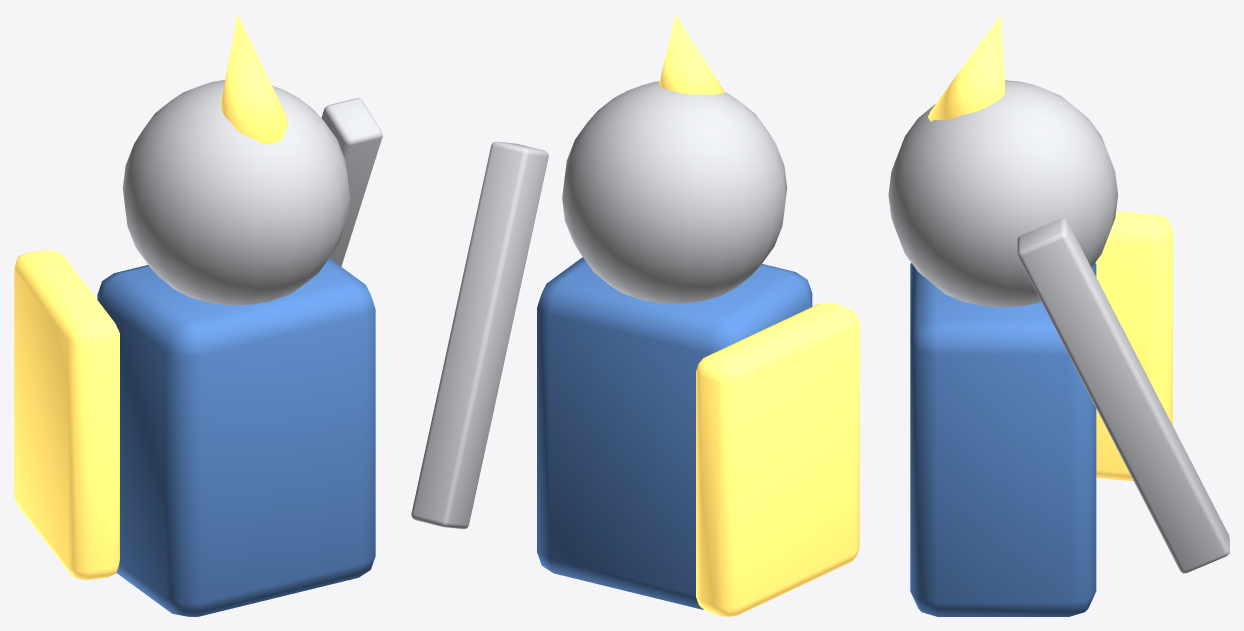
The model's file is troop_swordsman.glb.
3 views of the same model, side by side, from view 1: azimuth 30°, elevation 25°; view 2: azimuth 150°, elevation 25°; view 3: azimuth 270°, elevation 25° (orthographic).
Visible parts, largest first — view 1: StaticBody, Anim_Weapon; view 2: StaticBody, Anim_Weapon; view 3: StaticBody, Anim_Weapon.
Part boxes in pixels (x1,y1,x2,y2): StaticBody: [14, 14, 375, 616]; Anim_Weapon: [321, 98, 382, 266]; StaticBody: [537, 14, 859, 616]; Anim_Weapon: [411, 141, 548, 529]; StaticBody: [888, 14, 1172, 616]; Anim_Weapon: [1017, 218, 1229, 573].
Bounding box in the file's own units: 0.7022 × 1.14 × 0.6236.
